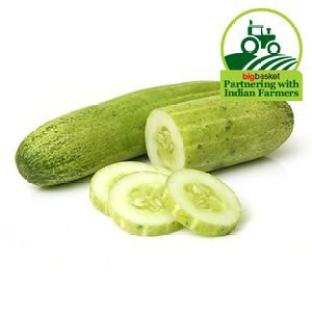Cucumber: (16, 82, 219, 186), (146, 96, 293, 171), (167, 169, 241, 236), (110, 172, 180, 236), (90, 162, 170, 215)
